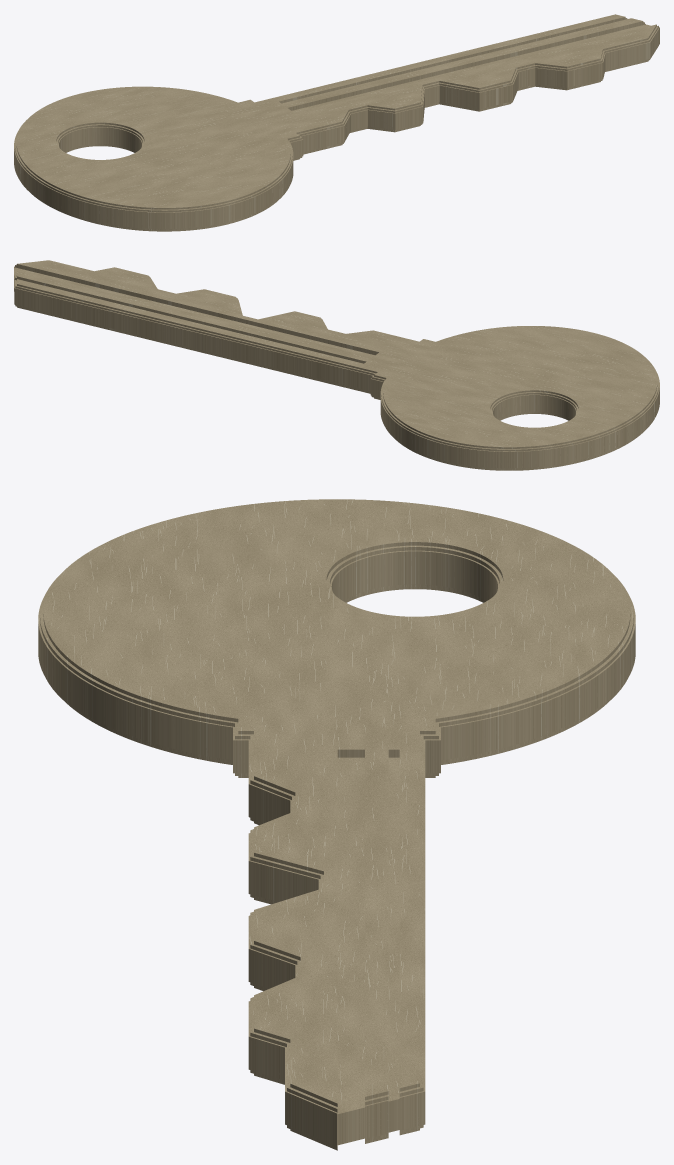
The model's file is Chia_Khoa.obj.
3 renders of one model, top to bottom at view 1: azimuth 30°, elevation 25°; view 2: azimuth 150°, elevation 25°; view 3: azimuth 270°, elevation 25°, orthographic. The views are drawn at different scales.
Parts seen in each view (by area): view 1: Chia_Khoa; view 2: Chia_Khoa; view 3: Chia_Khoa.
Part boxes in pixels (box(x1,y1,x2,y2)): Chia_Khoa: box(14, 14, 659, 231); Chia_Khoa: box(14, 260, 659, 470); Chia_Khoa: box(38, 499, 635, 1150).
Bounding box in the file's own units: 0.0555 × 0.002 × 0.023.
Materials: 1 (1 with a texture image).
